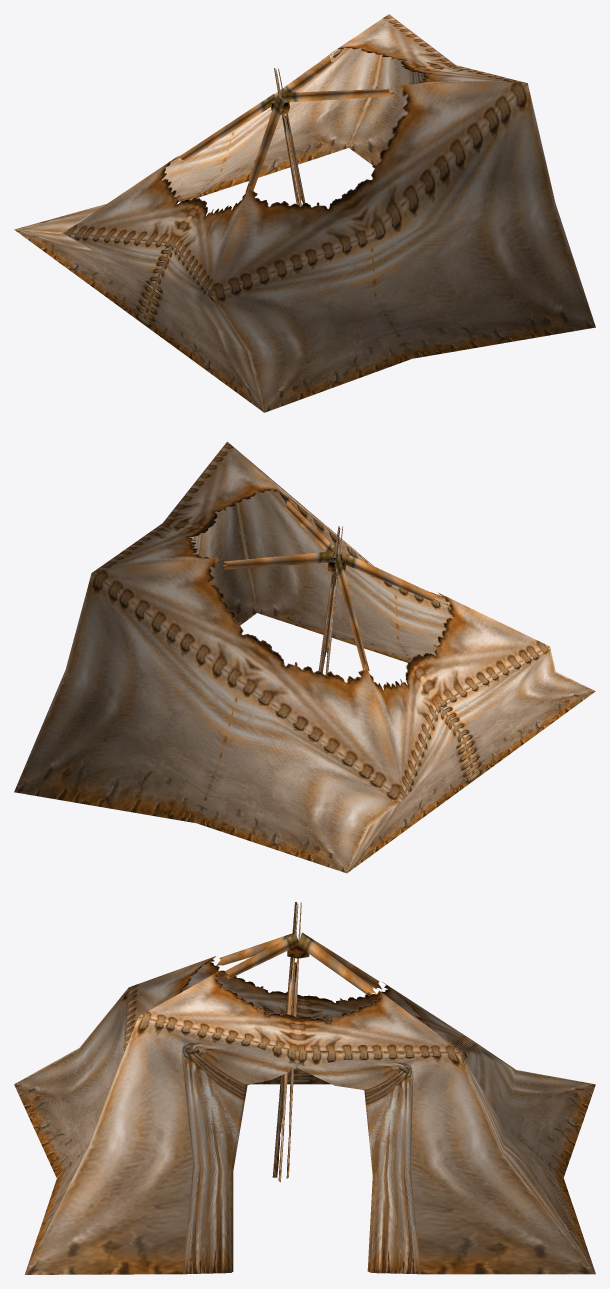
Rendered from excavationtentruined02.obj.
The picture shows the model from 3 angles, top to bottom: view 1: azimuth 30°, elevation 25°; view 2: azimuth 150°, elevation 25°; view 3: azimuth 270°, elevation 25°; orthographic projection. The views are drawn at different scales.
Parts seen in each view (by area): view 1: EXCAVATIONTENTRUINED020, EXCAVATIONTENTRUINED021; view 2: EXCAVATIONTENTRUINED020, EXCAVATIONTENTRUINED021; view 3: EXCAVATIONTENTRUINED020, EXCAVATIONTENTRUINED021.
Boxes of the visible parts, left/top/right/bottom form: EXCAVATIONTENTRUINED020: left=14, top=48, right=595, bottom=412; EXCAVATIONTENTRUINED021: left=64, top=14, right=527, bottom=295; EXCAVATIONTENTRUINED020: left=14, top=490, right=595, bottom=873; EXCAVATIONTENTRUINED021: left=92, top=441, right=549, bottom=799; EXCAVATIONTENTRUINED020: left=14, top=988, right=595, bottom=1274; EXCAVATIONTENTRUINED021: left=124, top=902, right=472, bottom=1182.
Size of the model in its own units: 5.08 by 3.18 by 6.49.
2 materials, 2 textured.
